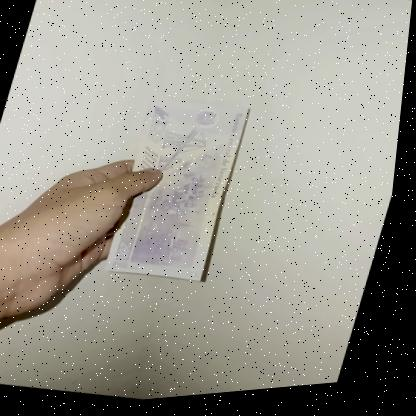two_hundred-back-vef: (103, 92, 255, 294)
